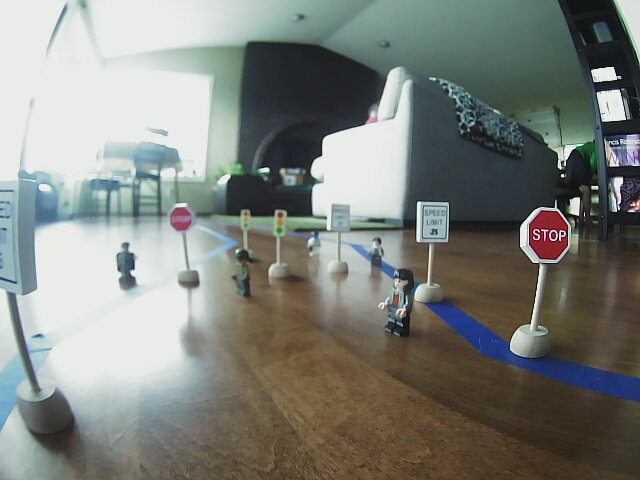SpeedLimit25: (1, 173, 34, 299), (328, 203, 350, 233)
SpeedLimit35: (416, 196, 451, 246)
StopSign: (523, 203, 572, 268), (168, 203, 194, 234)
TrafficLight: (271, 204, 285, 239), (238, 208, 253, 232)
person: (381, 270, 416, 338), (225, 246, 254, 299), (110, 239, 139, 286), (362, 233, 384, 268), (303, 229, 322, 260)
